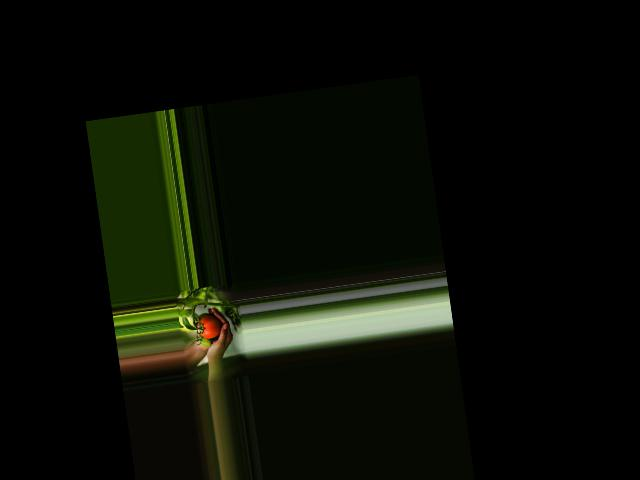tomato: (196, 314, 222, 340)
